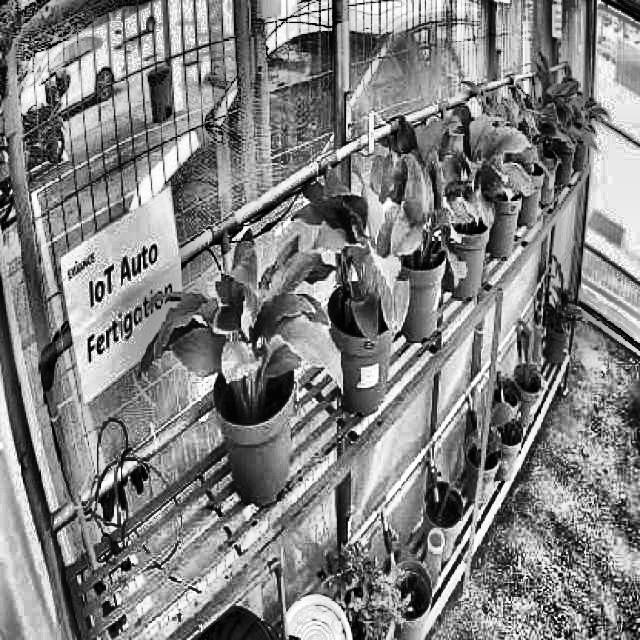plants: (136, 222, 342, 413), (377, 106, 468, 294), (307, 178, 410, 338), (421, 105, 534, 233)
